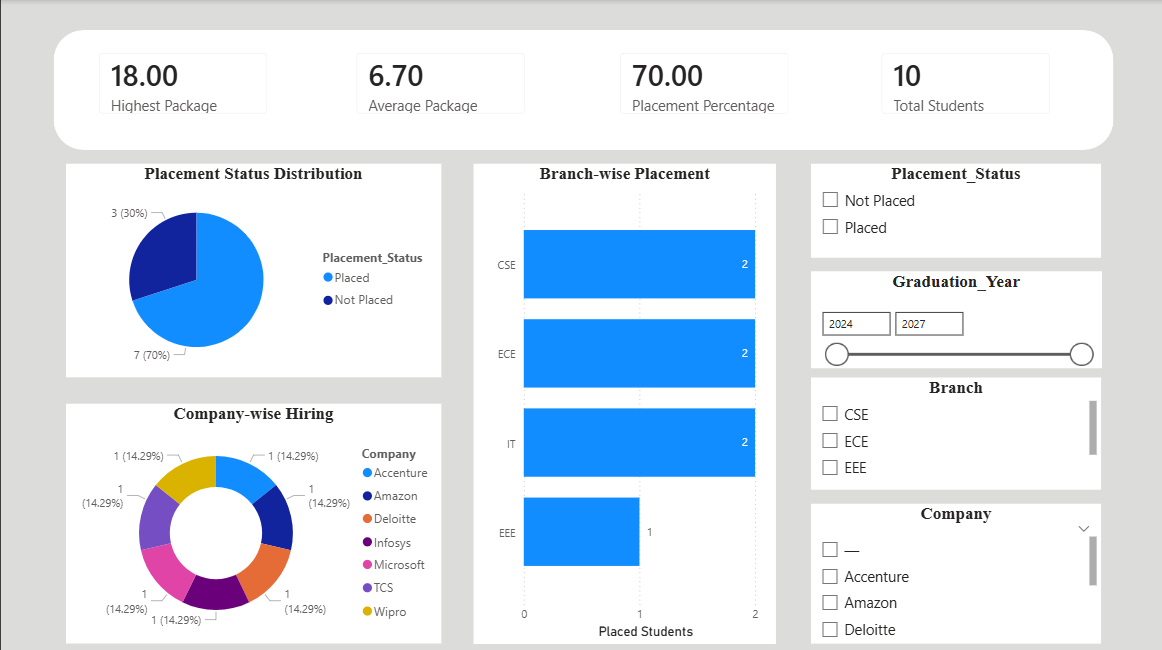

What the dashboard file says about the page in this screenshot:
{"tool":"powerbi","page":{"name":"college-placement-analytics","canvas":[1280,720],"ordinal":0},"visuals":[{"type":"shape","box":[57.6,32.9,1163.6,131.7],"z":0,"group":"g1"},{"type":"group","id":"g1","title":"Group 1","box":[57.6,32.9,1163.6,131.7],"z":0},{"type":"cardVisual","fields":{"Data":["Students.Placement Percentage"]},"box":[662.4,41.7,219.1,101.3],"z":1000,"group":"g1"},{"type":"clusteredBarChart","title":"Branch-wise Placement","fields":{"Y":["Students.Placed Students"],"Category":["Students.Branch"]},"box":[518.7,179.8,332.1,526.9],"z":1000},{"type":"donutChart","title":"Company-wise Hiring","fields":{"Category":["Placements.Company"],"Y":["Students.Placed Students"]},"box":[71.4,443.2,411.7,263.5],"z":1001},{"type":"pieChart","title":"Placement Status Distribution","fields":{"Category":["Placements.Placement_Status"],"Y":["CountNonNull(Placements.Student_ID)"]},"box":[71.4,179.8,411.7,234.6],"z":1002},{"type":"slicer","title":"Graduation_Year","fields":{"Values":["Students.Graduation_Year"]},"box":[889.2,297.8,318.4,105.7],"z":1003},{"type":"slicer","title":"Placement_Status","fields":{"Values":["Placements.Placement_Status"]},"box":[889.2,179.8,318.4,102.9],"z":1005},{"type":"slicer","title":"Branch","fields":{"Values":["Students.Branch"]},"box":[889.2,414.4,318.4,123.5],"z":1006},{"type":"slicer","title":"Company","fields":{"Values":["Placements.Company"]},"box":[889.2,553,318.4,153.7],"z":1007},{"type":"cardVisual","fields":{"Data":["Students.Average Package"]},"box":[373.9,41.7,219.1,101.3],"z":2000,"group":"g1"},{"type":"cardVisual","fields":{"Data":["Students.Highest Package"]},"box":[90.8,41.7,219.1,101.3],"z":3000,"group":"g1"},{"type":"cardVisual","fields":{"Data":["Students.Total Students"]},"box":[949.6,41.7,219.1,101.3],"z":4000,"group":"g1"}]}

Visuals, with their boxes in screenshot pixels (x1, y1, x2, y2), scaled from the page's 1280x720 canvas onto the 1162x650 screenshot:
shape: left=52, top=30, right=1109, bottom=149
"Group 1" group: left=52, top=30, right=1109, bottom=149
cardVisual - Students.Placement Percentage: left=601, top=38, right=800, bottom=129
"Branch-wise Placement" clusteredBarChart: left=471, top=162, right=772, bottom=638
"Company-wise Hiring" donutChart: left=65, top=400, right=439, bottom=638
"Placement Status Distribution" pieChart: left=65, top=162, right=439, bottom=374
"Graduation_Year" slicer: left=807, top=269, right=1096, bottom=364
"Placement_Status" slicer: left=807, top=162, right=1096, bottom=255
"Branch" slicer: left=807, top=374, right=1096, bottom=486
"Company" slicer: left=807, top=499, right=1096, bottom=638
cardVisual - Students.Average Package: left=339, top=38, right=538, bottom=129
cardVisual - Students.Highest Package: left=82, top=38, right=281, bottom=129
cardVisual - Students.Total Students: left=862, top=38, right=1061, bottom=129
